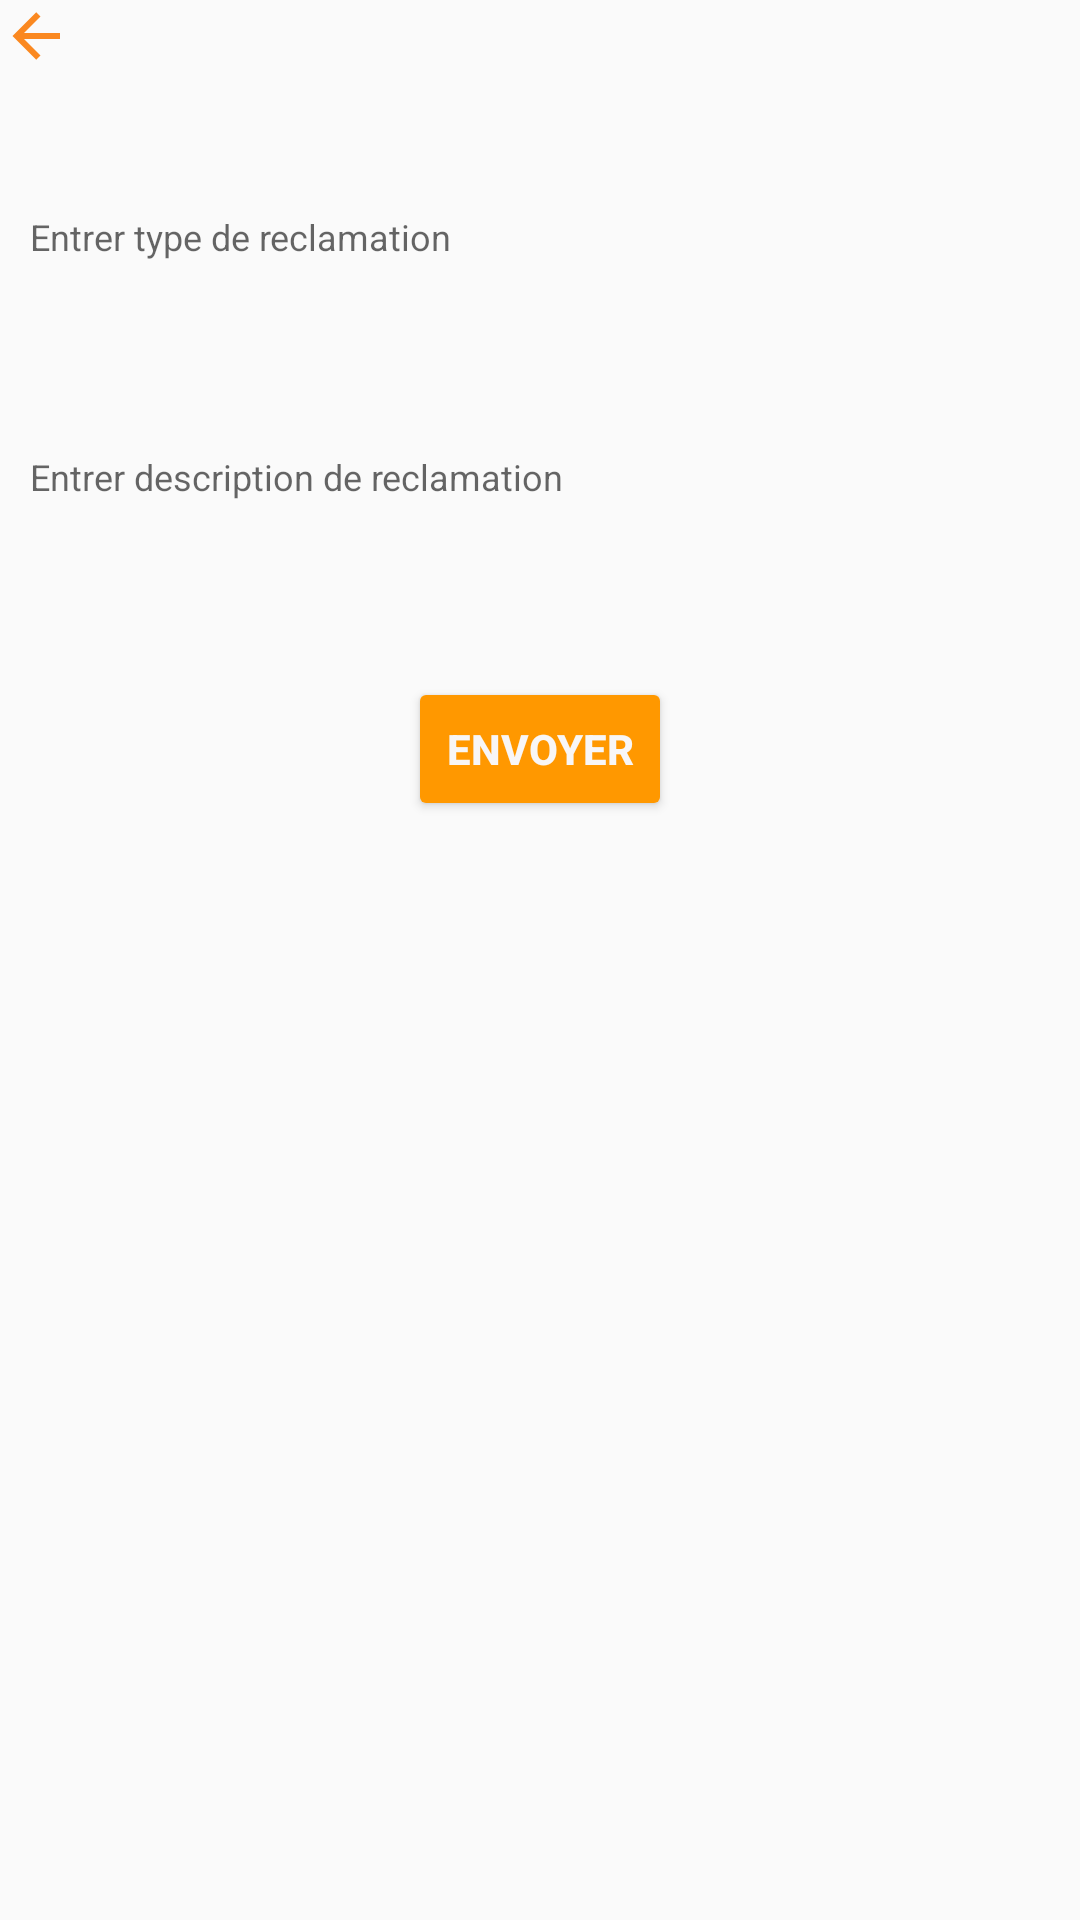

Screen size 1080*1920. Icon name, then its center in pixels as (x,y):
arrow left: (36,36)
